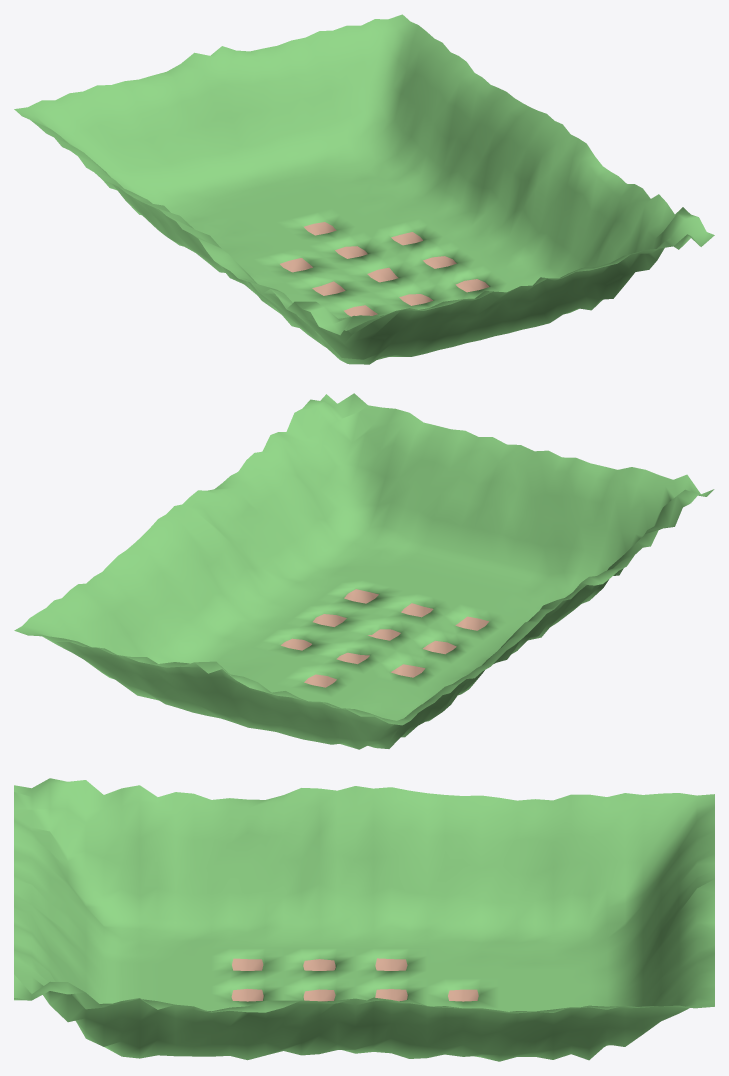
File: cementerio.fbx
The picture shows the model from 3 angles, top to bottom: view 1: azimuth 30°, elevation 25°; view 2: azimuth 150°, elevation 25°; view 3: azimuth 270°, elevation 25°; orthographic projection. The views are drawn at different scales.
Parts seen in each view (by area): view 1: Cube; view 2: Cube; view 3: Cube.
Boxes of the visible parts, <box> form: Cube: <box>14,14,714,364</box>; Cube: <box>14,393,714,749</box>; Cube: <box>14,778,714,1061</box>.
Bounding box in the file's own units: 1400 × 390 × 1950.
